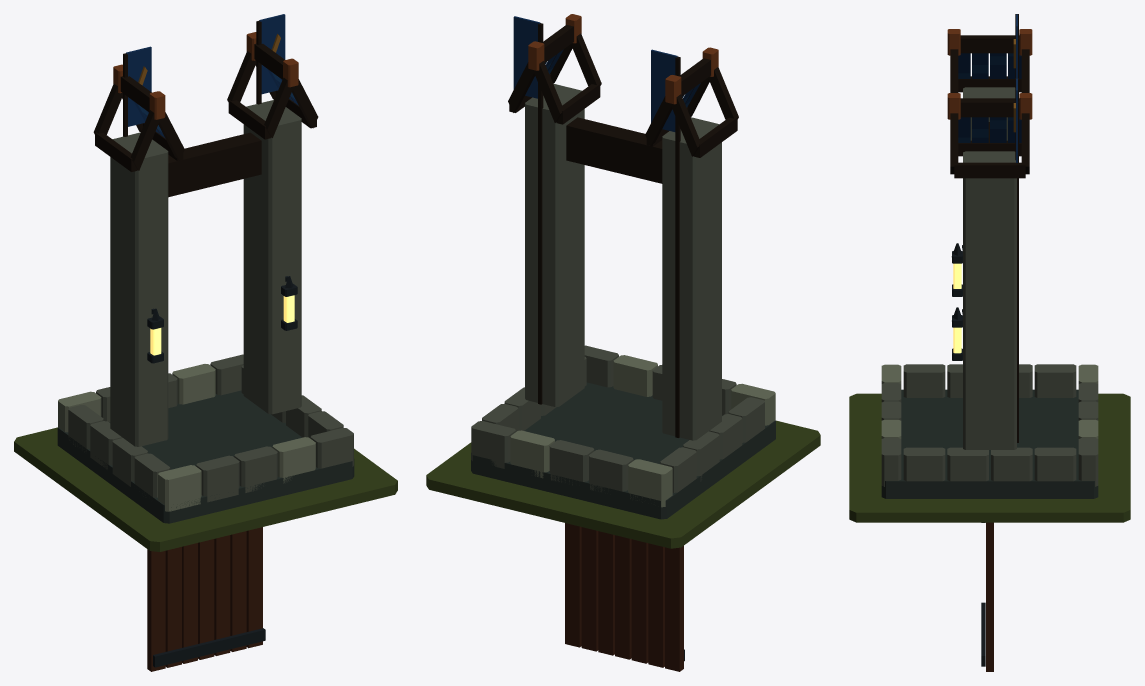
Rendered from gate_t5.glb.
3 renders of one model, left to right at view 1: azimuth 30°, elevation 25°; view 2: azimuth 150°, elevation 25°; view 3: azimuth 270°, elevation 25°, orthographic. The views are drawn at different scales.
Visible parts, largest first — view 1: MMR | gate | T05 Architecture.001, MMR | gate | T05 Lift Gate.001, MMR | gate | Tier 05 Ground.001; view 2: MMR | gate | T05 Architecture.001, MMR | gate | T05 Lift Gate.001, MMR | gate | Tier 05 Ground.001; view 3: MMR | gate | T05 Architecture.001, MMR | gate | Tier 05 Ground.001, MMR | gate | T05 Lift Gate.001.
Boxes of the visible parts, left/top/right/bottom form: MMR | gate | T05 Architecture.001: left=57, top=14, right=354, bottom=523; MMR | gate | T05 Lift Gate.001: left=147, top=527, right=265, bottom=671; MMR | gate | Tier 05 Ground.001: left=14, top=427, right=397, bottom=551; MMR | gate | T05 Architecture.001: left=471, top=14, right=775, bottom=519; MMR | gate | T05 Lift Gate.001: left=565, top=523, right=684, bottom=671; MMR | gate | Tier 05 Ground.001: left=426, top=420, right=820, bottom=548; MMR | gate | T05 Architecture.001: left=881, top=14, right=1098, bottom=498; MMR | gate | Tier 05 Ground.001: left=849, top=393, right=1130, bottom=522; MMR | gate | T05 Lift Gate.001: left=981, top=522, right=993, bottom=671.
Bounding box in the file's own units: 1.3 × 3.06 × 1.3.
Materials: 2 (1 with a texture image).
